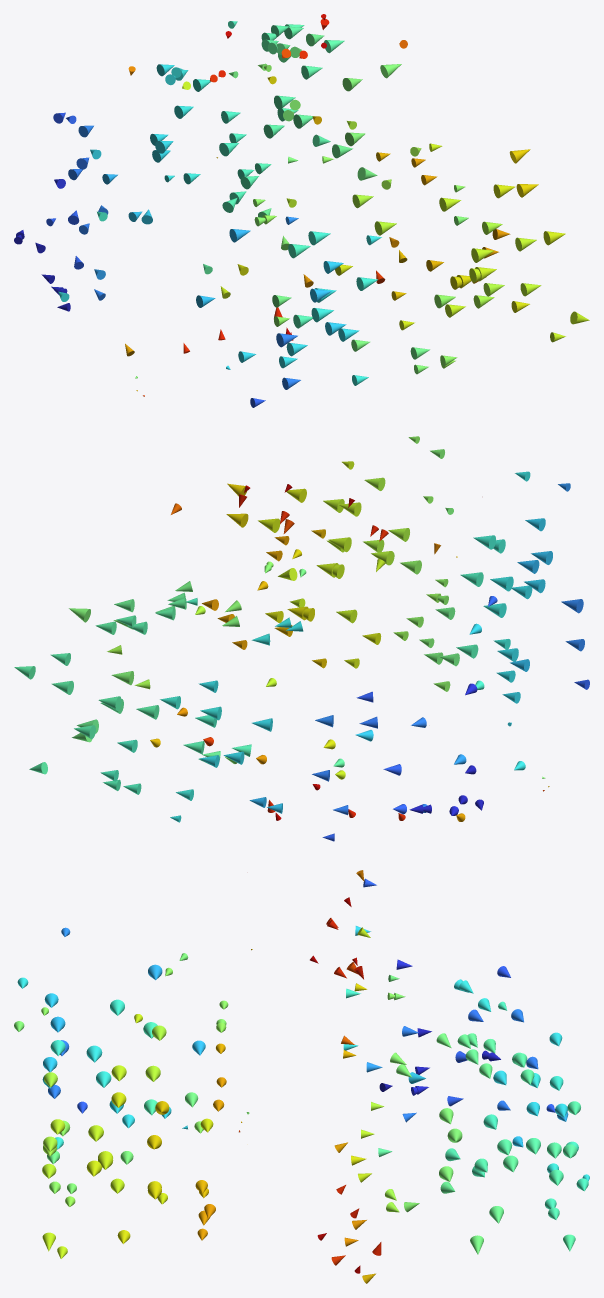
The model's file is LineasCorrienteN2-H2O_mh2-2.70_V-0.7.glb.
3 views of the same model, one above another, from view 1: azimuth 30°, elevation 25°; view 2: azimuth 150°, elevation 25°; view 3: azimuth 270°, elevation 25° (orthographic). The views are drawn at different scales.
Size of the model in its own units: 0.000978 by 0.000778 by 0.00119.
Materials: 2 (2 with a texture image).
